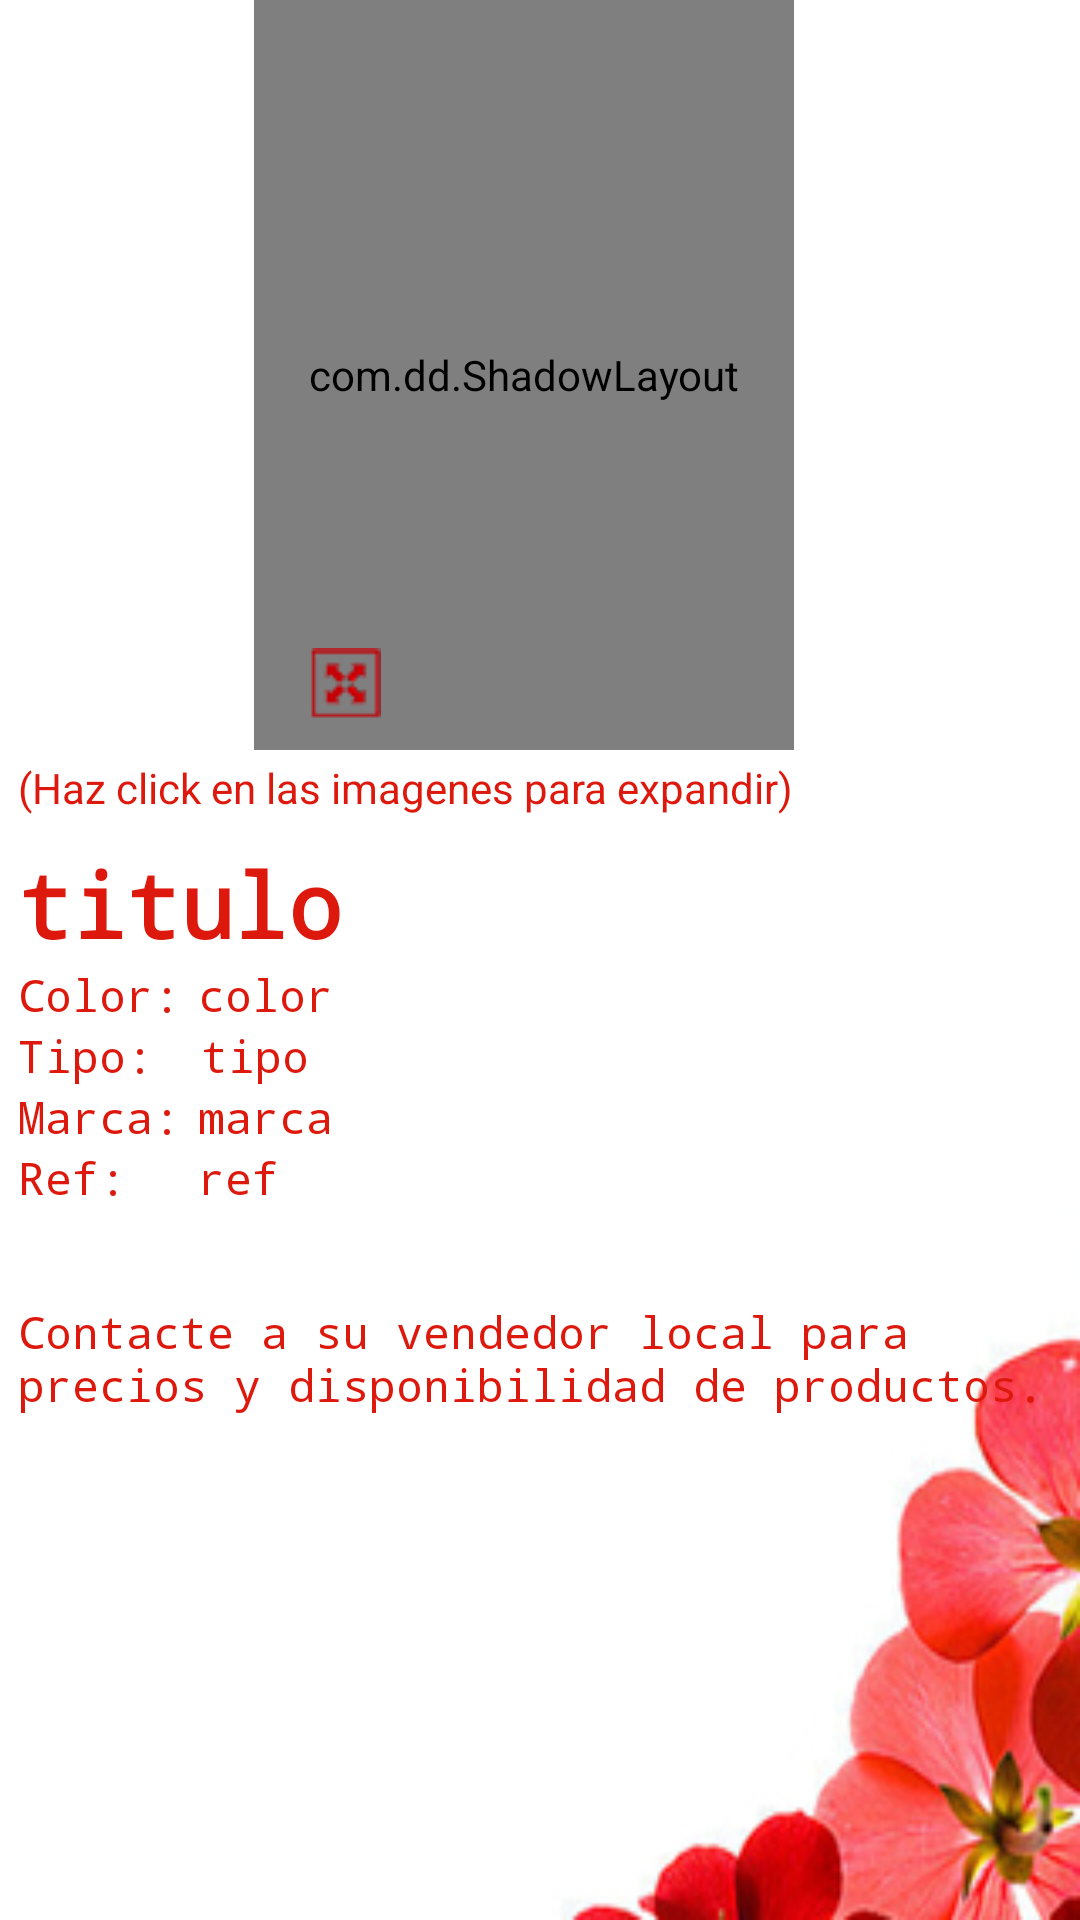

Icon bounding boxes for this 1080 × 1920 phone screenshot, format [x1, y1, x2, y2]:
fullscrn: [311, 648, 381, 718]
